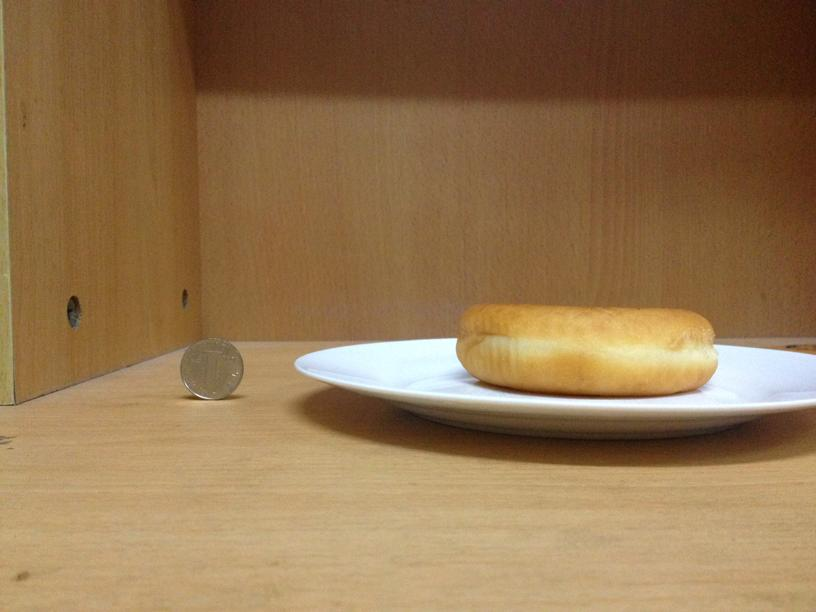coin: (180, 337, 243, 400)
doughnut: (454, 307, 720, 393)
